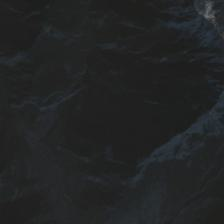landslides: (209, 108, 224, 133)
